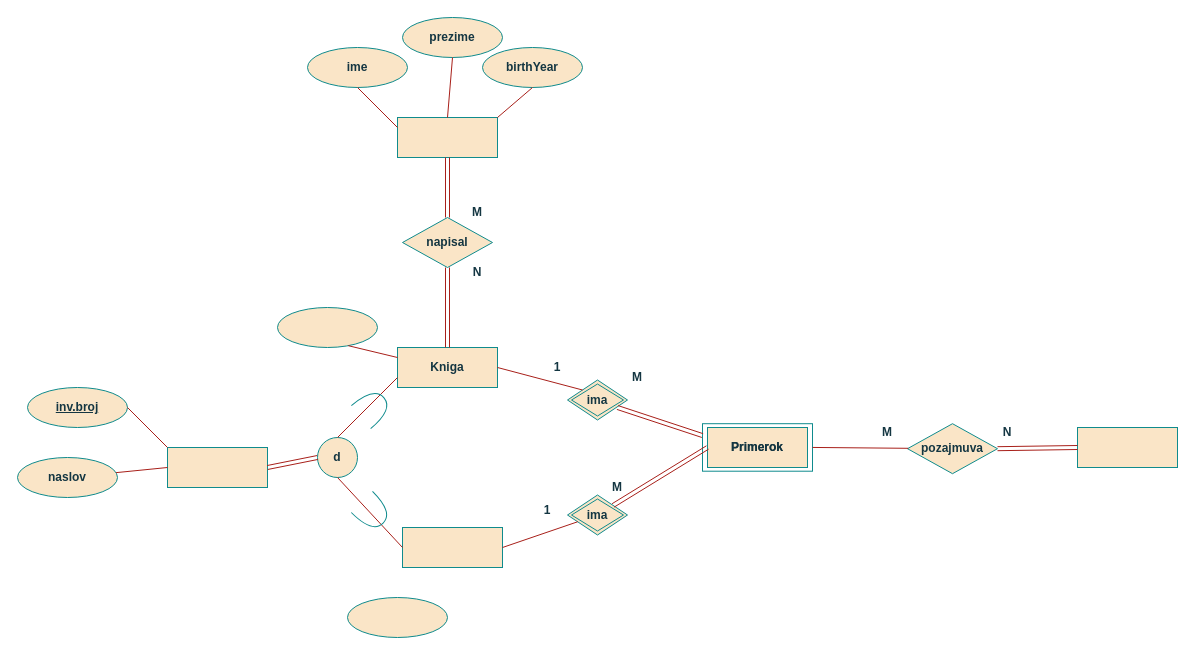
This 1195x655 diagram has some shape labels left out. Each missing label, with the centre of its shape:
Avtor: point 447,137
broj: point 397,617
brojStrani: point 327,327
Clen: point 1127,447
ListaStrani: point 217,467
Spisanie: point 452,547
